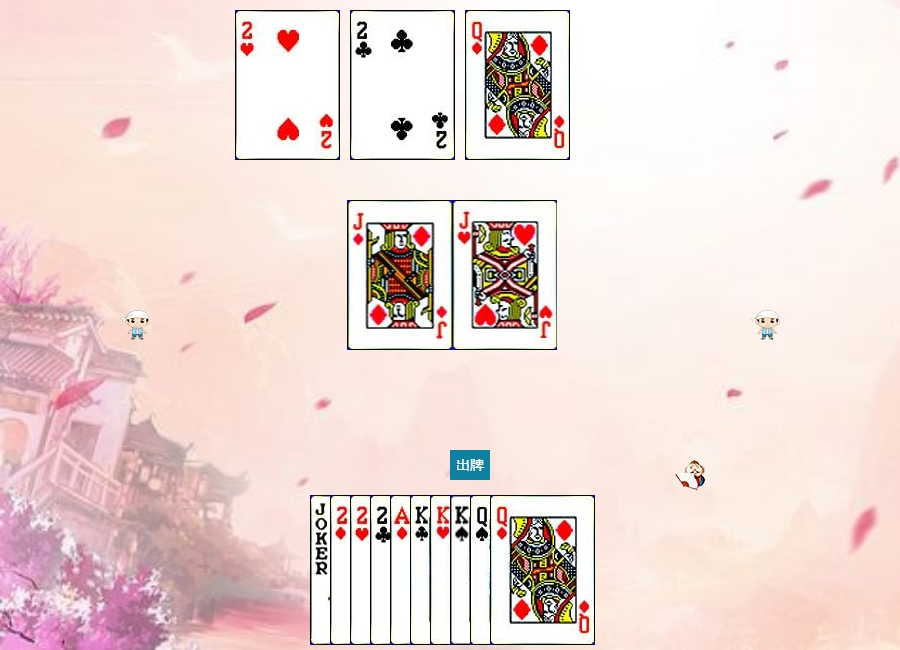11~1: (348, 200, 453, 350)
11~3: (453, 200, 558, 350)
12~1: (465, 10, 570, 160), (490, 495, 595, 645)
12~4: (470, 495, 575, 645)
13~2: (410, 495, 515, 645)
13~3: (430, 495, 535, 645)
13~4: (450, 495, 555, 645)
14~1: (390, 495, 495, 645)
15~1: (330, 495, 435, 645)
15~2: (350, 10, 455, 160), (370, 495, 475, 645)
15~3: (235, 10, 340, 160), (350, 495, 455, 645)
17~3: (310, 495, 415, 645)
